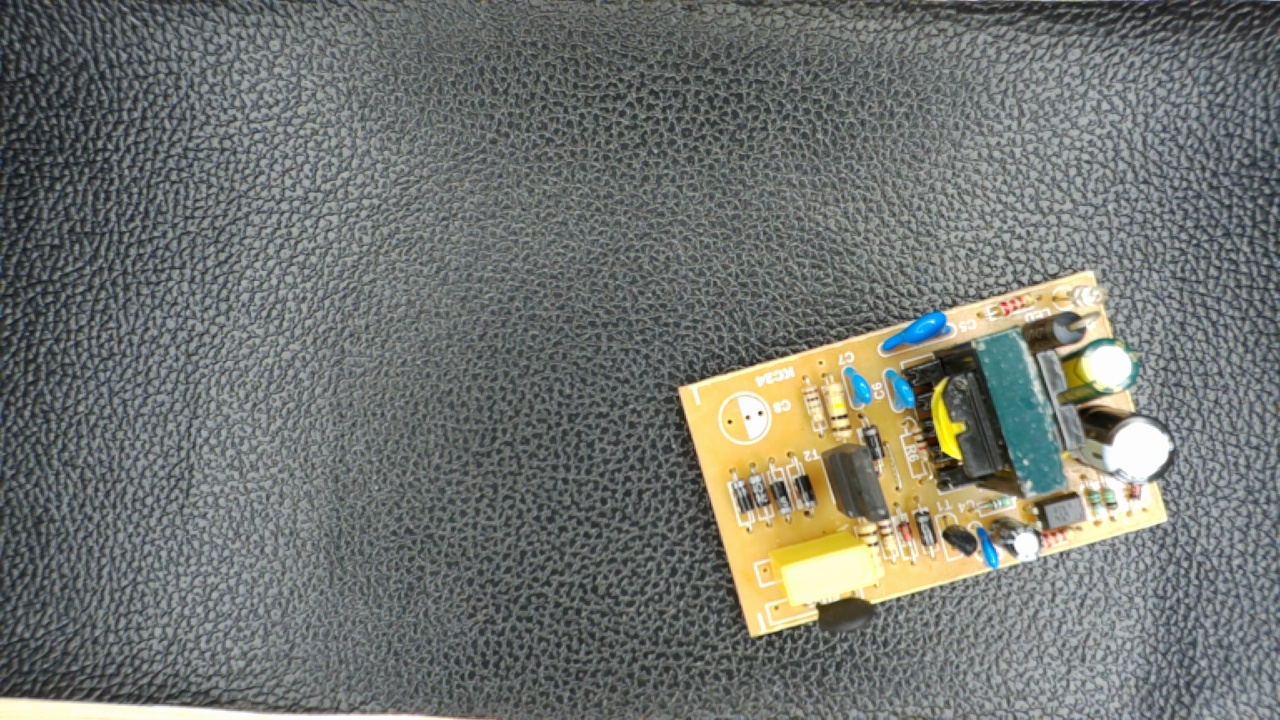fuse: (809, 590, 881, 636)
mov: (872, 312, 957, 357)
optocoupler: (1029, 491, 1092, 536)
